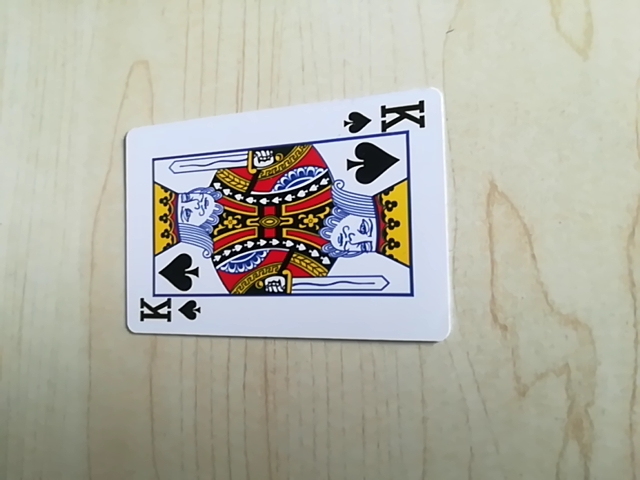ht k: (340, 99, 429, 138), (132, 293, 201, 330)
